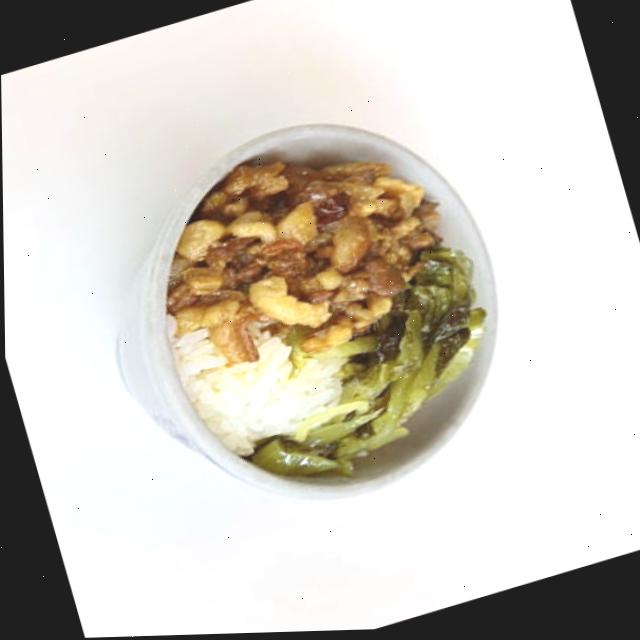猪肉菜式: (83, 85, 535, 541)
